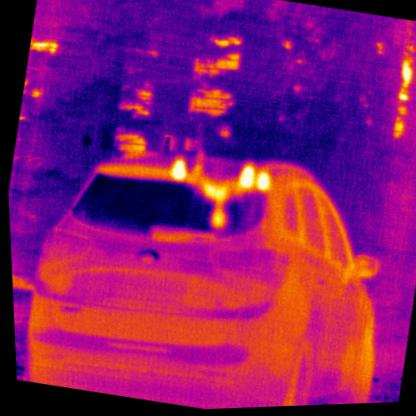drone: (158, 149, 274, 238)
vehicle: (6, 116, 406, 415)
